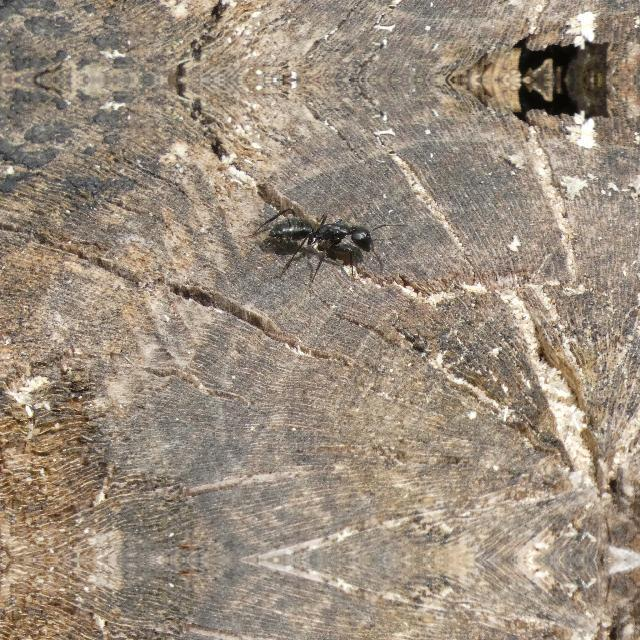Camponotus: (264, 201, 398, 279)
